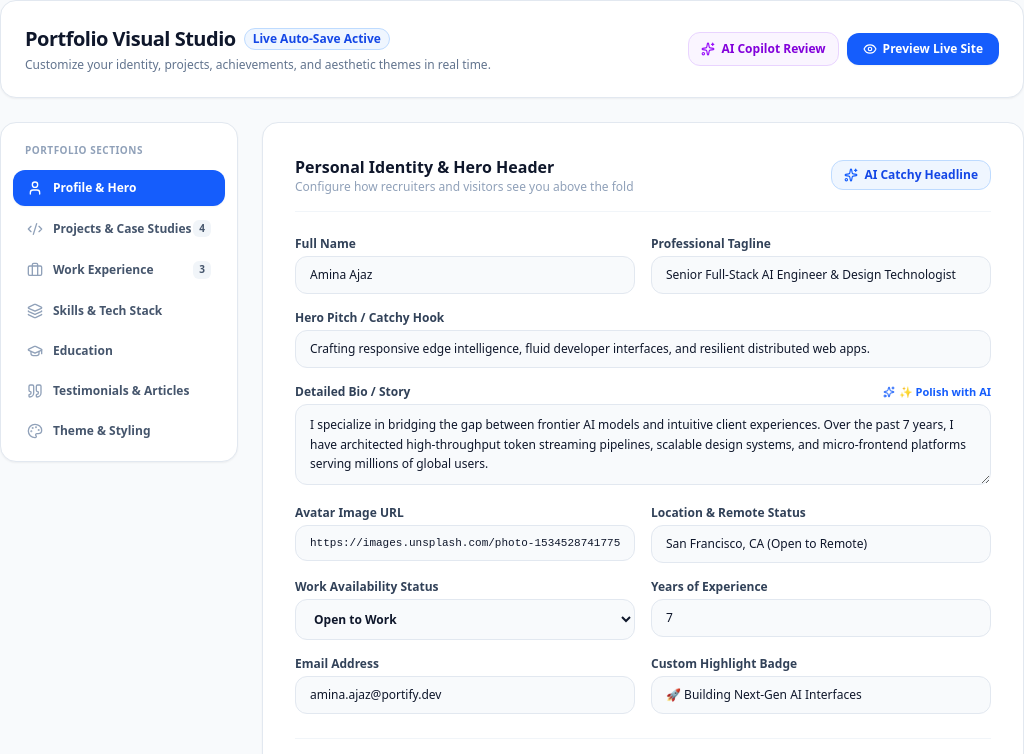
Editor Validated Form & Navigation › switches between editor navigation sections cleanly
What coordinates should you click on to do the following:
click the button "Theme & Styling"
I would click on:
 (119, 431)
Its box is [13,413,225,449].
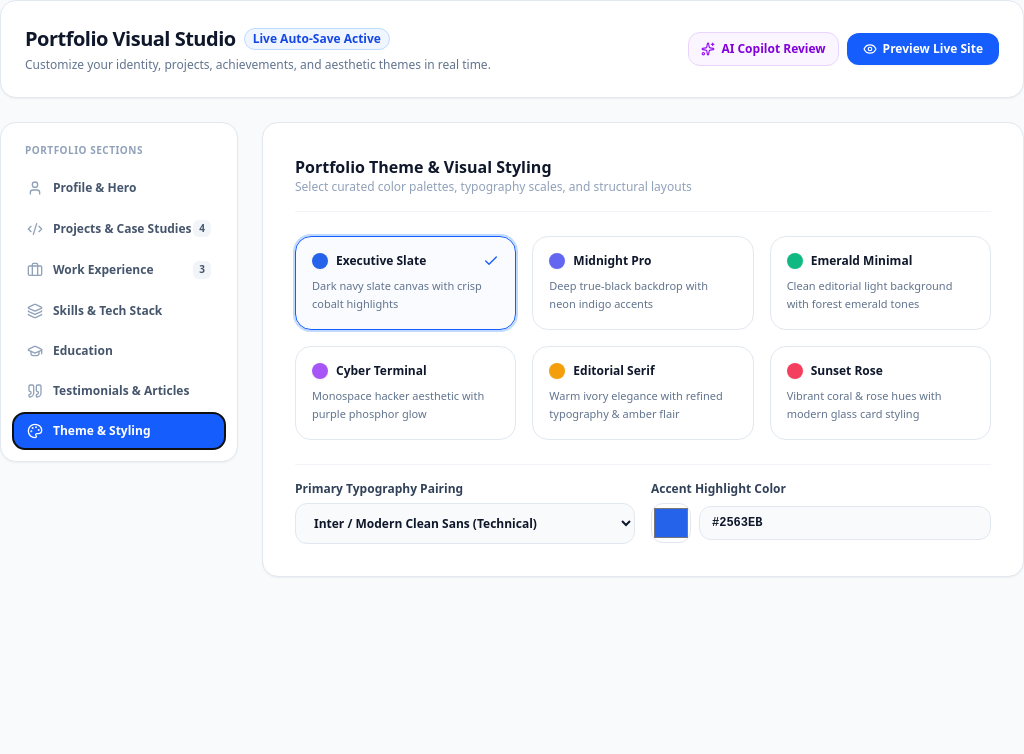
Now the heading "Portfolio Theme & Visual Styling" is shown, box [295,156,552,178]
